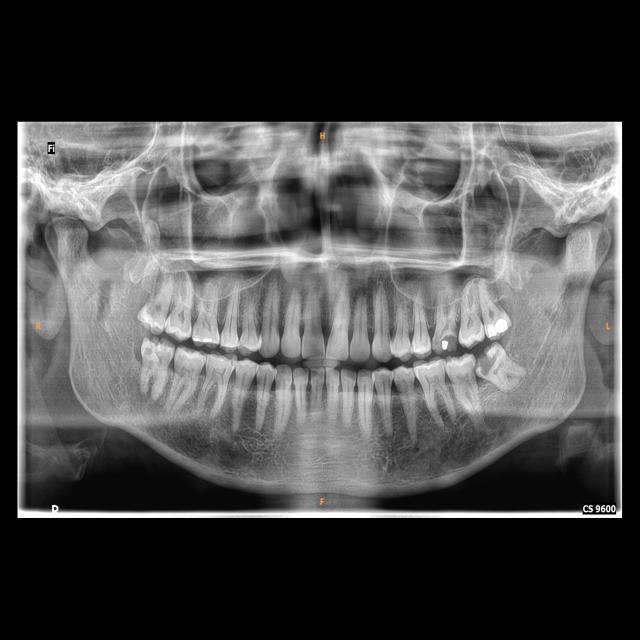dentin-curugu: (478, 352, 494, 374), (447, 332, 459, 352), (141, 346, 157, 359)
dolgu: (484, 315, 509, 335), (440, 338, 451, 350)
